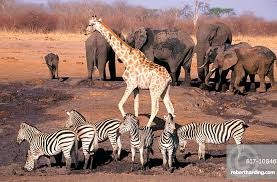elephant: (121, 26, 194, 87), (203, 45, 277, 92), (193, 17, 231, 89), (82, 26, 125, 84), (203, 40, 257, 86), (44, 51, 61, 79)
giraffe: (82, 11, 180, 126)
zebra: (13, 120, 78, 172), (175, 119, 249, 161), (64, 108, 120, 160), (117, 112, 155, 168), (65, 108, 96, 168), (158, 112, 177, 172)
